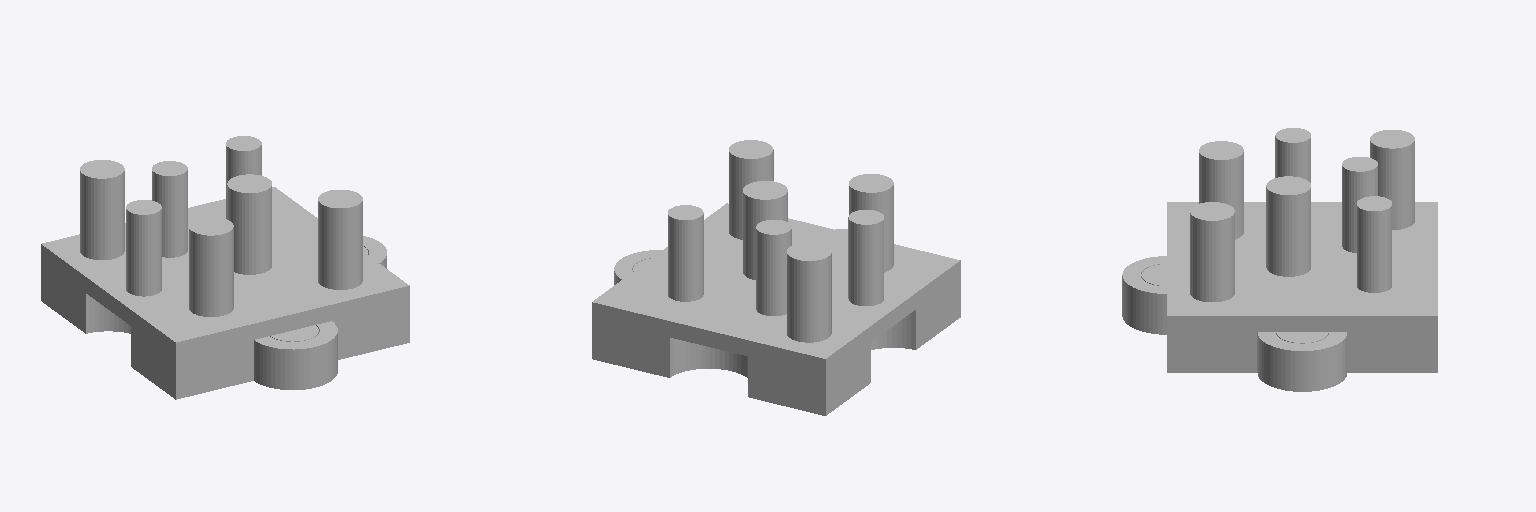
3 renders of one model, left to right at view 1: azimuth 30°, elevation 25°; view 2: azimuth 150°, elevation 25°; view 3: azimuth 270°, elevation 25°, orthographic.
Parts seen in each view (by area): view 1: soil (1), Tile; view 2: soil (1), Tile; view 3: soil (1), Tile, soil.
Boxes of the visible parts, x1=… form: soil (1): x1=41, y1=136, x2=409, y2=358; Tile: x1=41, y1=236, x2=409, y2=399; soil (1): x1=592, y1=140, x2=960, y2=374; Tile: x1=592, y1=229, x2=960, y2=415; soil (1): x1=1167, y1=128, x2=1437, y2=331; Tile: x1=1122, y1=256, x2=1437, y2=391; soil: x1=1141, y1=264, x2=1328, y2=343.
Bounding box in the file's own units: 34.99 × 17 × 34.99.